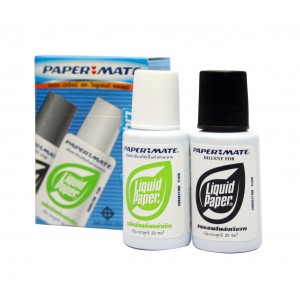Correction_fluid: (187, 64, 266, 257), (117, 67, 193, 253)
